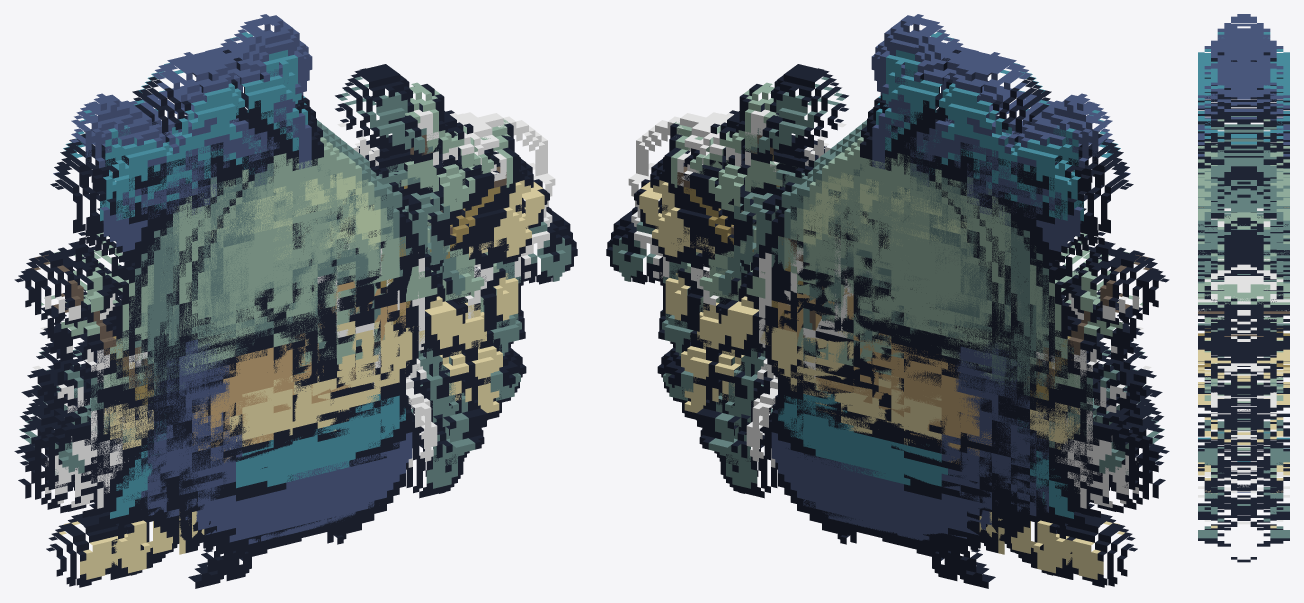
The model's file is arqueiro_golpe.glb.
3 views of the same model, side by side, from view 1: azimuth 30°, elevation 25°; view 2: azimuth 150°, elevation 25°; view 3: azimuth 270°, elevation 25° (orthographic). The views are drawn at different scales.
Parts seen in each view (by area): view 1: q0, q1, q5, q2, q3, q6, q7, q4; view 2: q0, q1, q5, q2, q3, q7, q6, q4; view 3: q5, q0, q7, q1, q6, q2, q4, q3.
Part boxes in pixels (x1,y1,x2,y2): q0: (33,14,502,580); q1: (14,32,486,587); q5: (18,64,577,587); q2: (20,51,462,588); q3: (20,119,525,551); q6: (19,85,526,579); q7: (27,41,501,574); q4: (14,100,531,492); q0: (681,14,1150,580); q1: (697,32,1169,585); q5: (606,64,1165,587); q2: (721,51,1163,588); q3: (658,121,1163,551); q7: (682,42,1156,574); q6: (657,85,1164,579); q4: (652,100,1169,489); q5: (1198,14,1289,481); q0: (1198,50,1289,562); q7: (1198,60,1289,546); q1: (1198,67,1289,516); q6: (1198,63,1289,526); q2: (1198,38,1289,509); q4: (1198,31,1289,470); q3: (1198,53,1289,471).
Bounding box in the file's own units: 87 × 83 × 14.
1 material, 1 textured.
